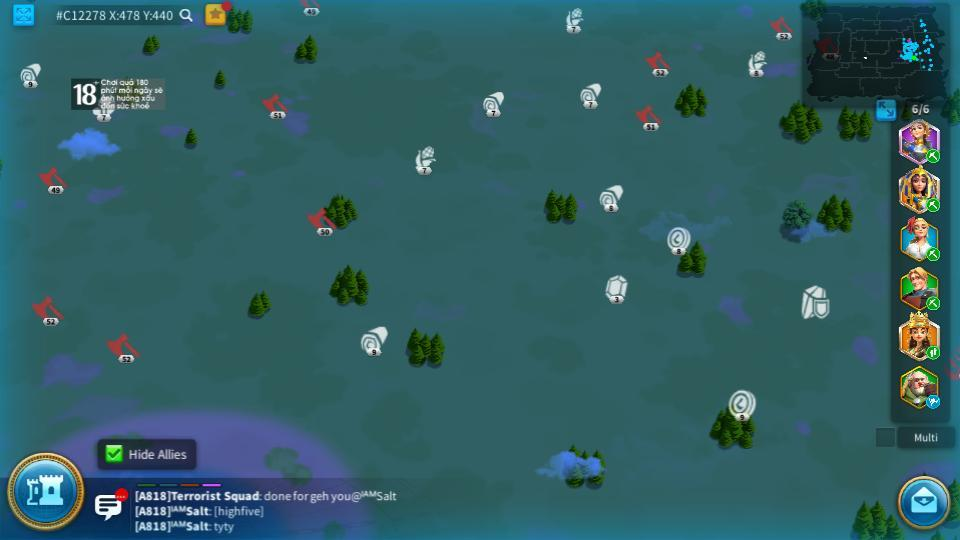gem-z-out: (605, 275, 628, 303)
march_farming: (925, 197, 941, 212), (925, 149, 941, 162), (925, 250, 941, 261)
march_idle: (925, 396, 942, 408)
march_marching: (925, 345, 941, 359), (925, 297, 942, 308)
